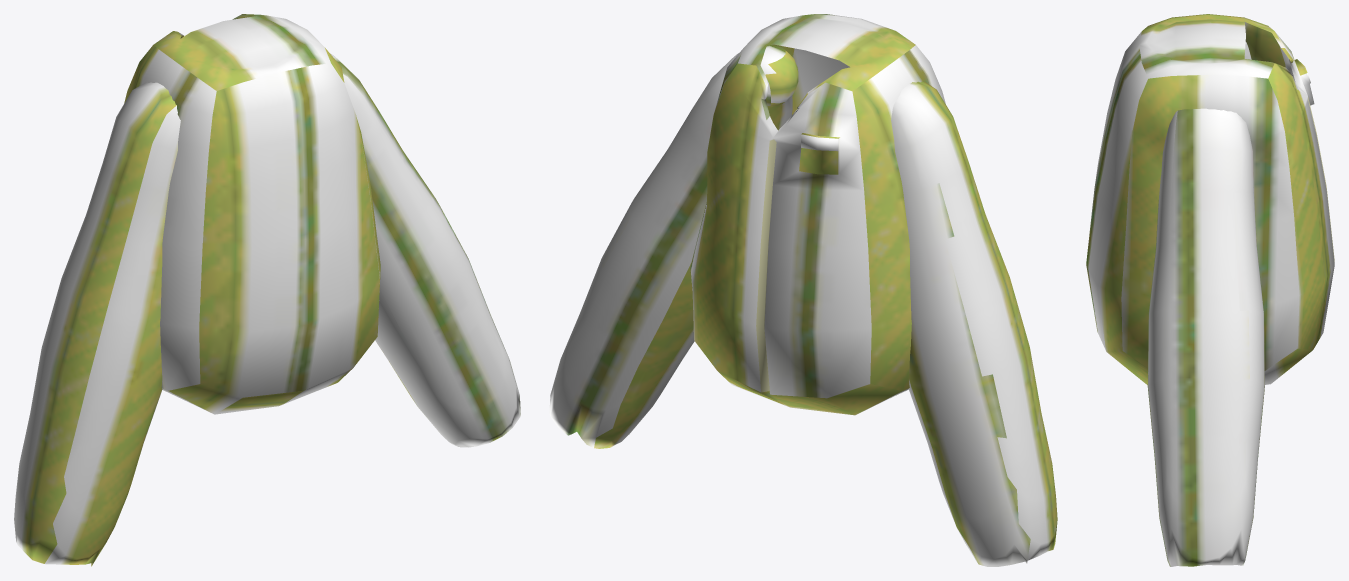
Rendered from item-corns-sleepytime-fit.glb.
3 views of the same model, side by side, from view 1: azimuth 30°, elevation 25°; view 2: azimuth 150°, elevation 25°; view 3: azimuth 270°, elevation 25° (orthographic). The views are drawn at different scales.
Bounding box in the file's own units: 0.1363 × 0.128 × 0.0632.
Materials: 3 (1 with a texture image).
